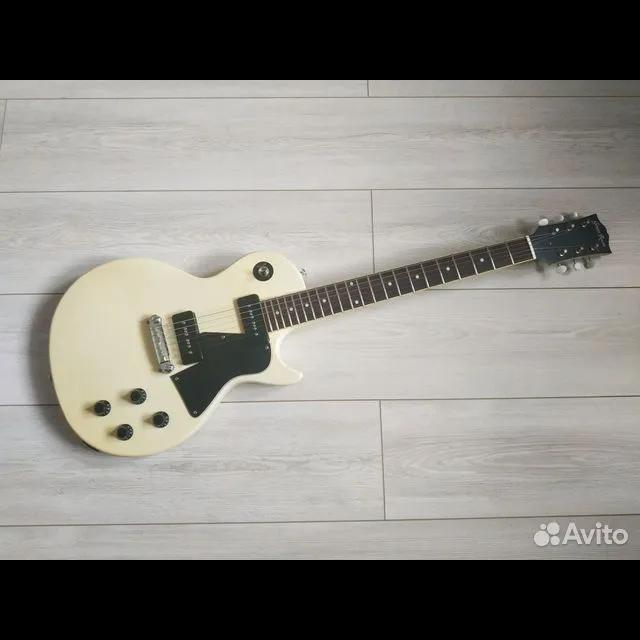Electric-Guitar: (49, 212, 611, 456)
